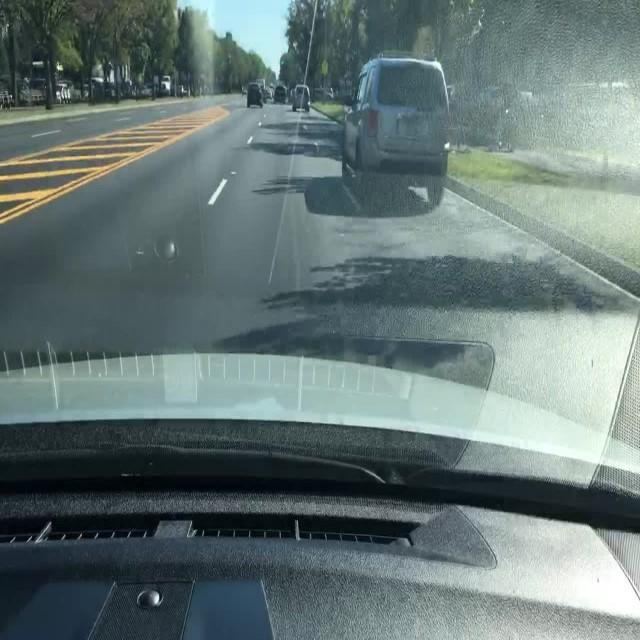normal: (309, 25, 466, 233)
